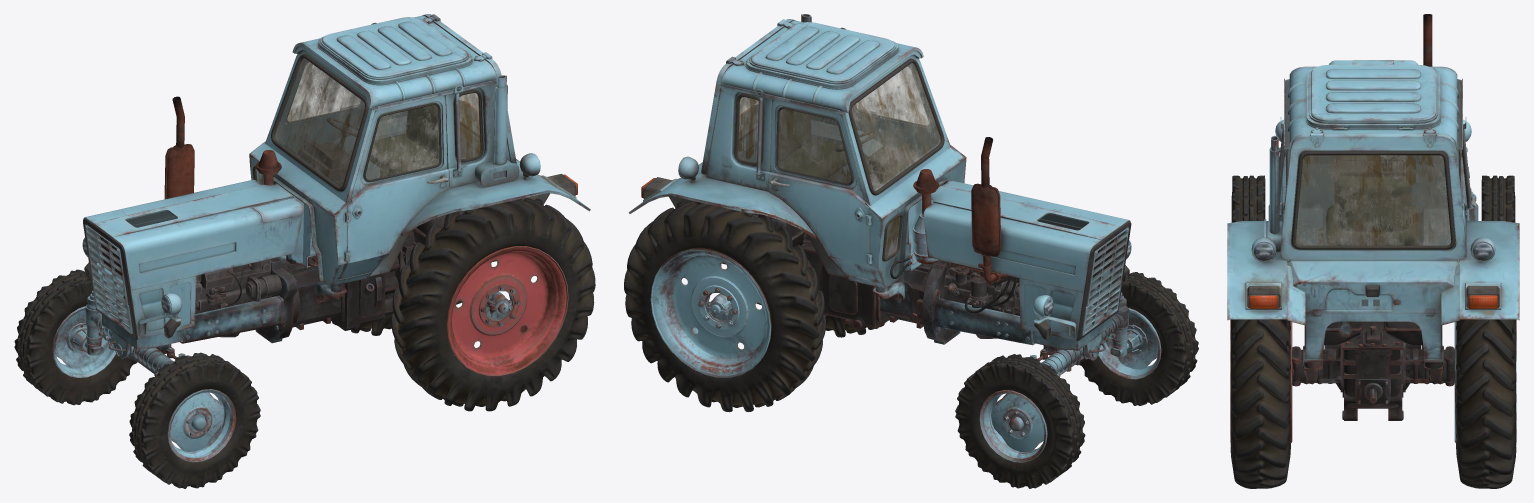
File: tractor-mtz80.glb
The picture shows the model from 3 angles, left to right: view 1: azimuth 30°, elevation 25°; view 2: azimuth 150°, elevation 25°; view 3: azimuth 270°, elevation 25°; orthographic projection. The views are drawn at different scales.
Parts seen in each view (by area): view 1: MTZ; view 2: MTZ; view 3: MTZ.
Part boxes in pixels (x1,y1,x2,y2): MTZ: (14, 14, 595, 488); MTZ: (624, 14, 1198, 488); MTZ: (1227, 14, 1519, 488).
Bounding box in the file's own units: 3.89 × 2.72 × 1.97.
5 materials, 5 textured.
